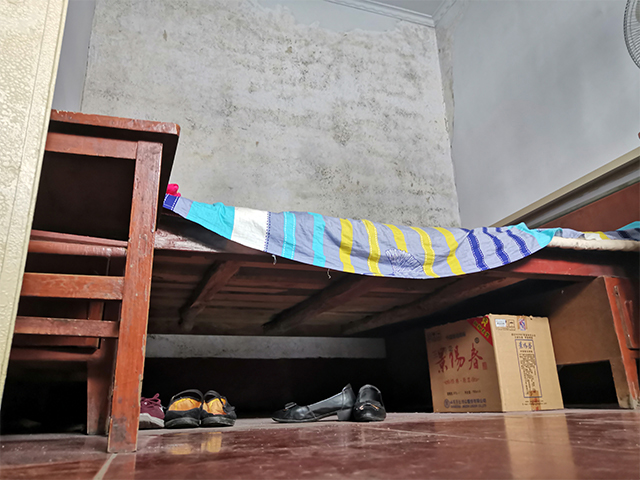bed: (153, 189, 639, 413)
stool: (1, 106, 181, 456)
